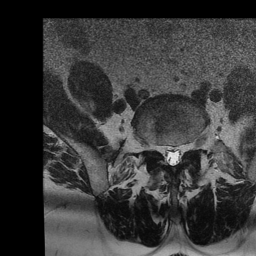CCS_normal: (169, 138, 177, 171)
LFS_normal: (184, 135, 192, 157)
LLS_normal: (177, 139, 184, 167)
RFS_normal: (151, 135, 160, 158)
RLS_normal: (160, 139, 168, 167)
